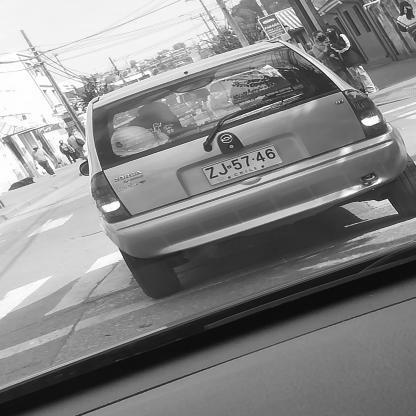Patente: (198, 143, 290, 187)
